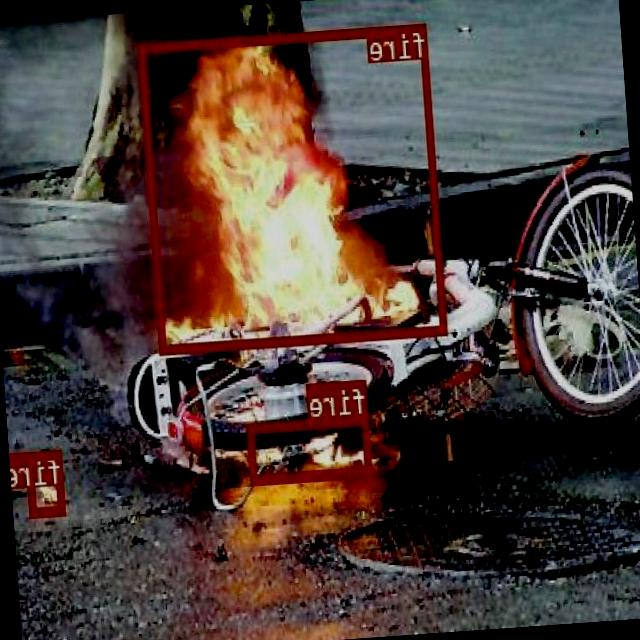fire: (140, 21, 448, 352), (247, 414, 373, 481), (26, 448, 67, 514)
